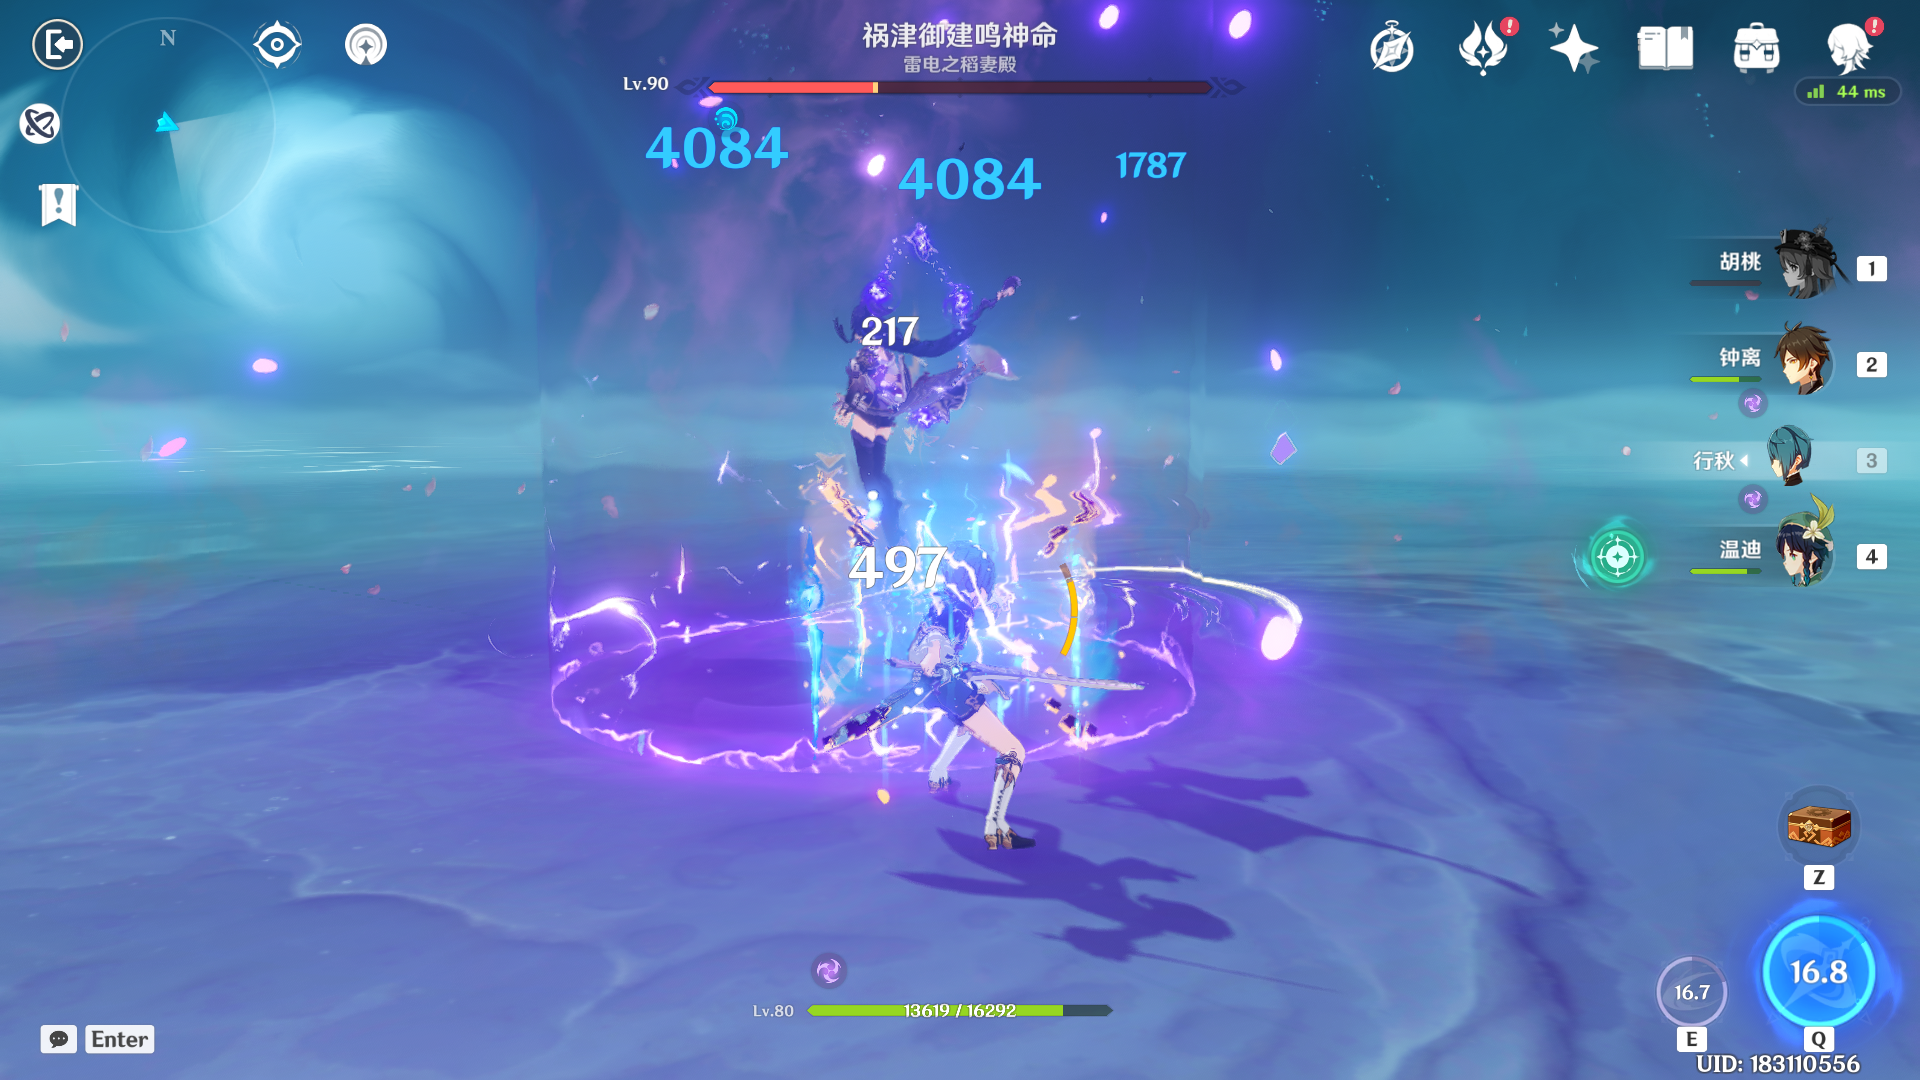character: (843, 516, 1091, 876), (789, 248, 1011, 578)
